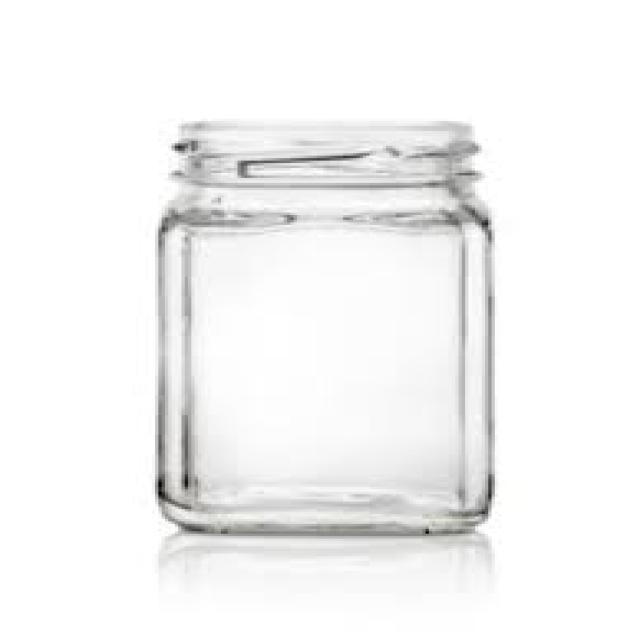glass: (155, 121, 488, 531)
